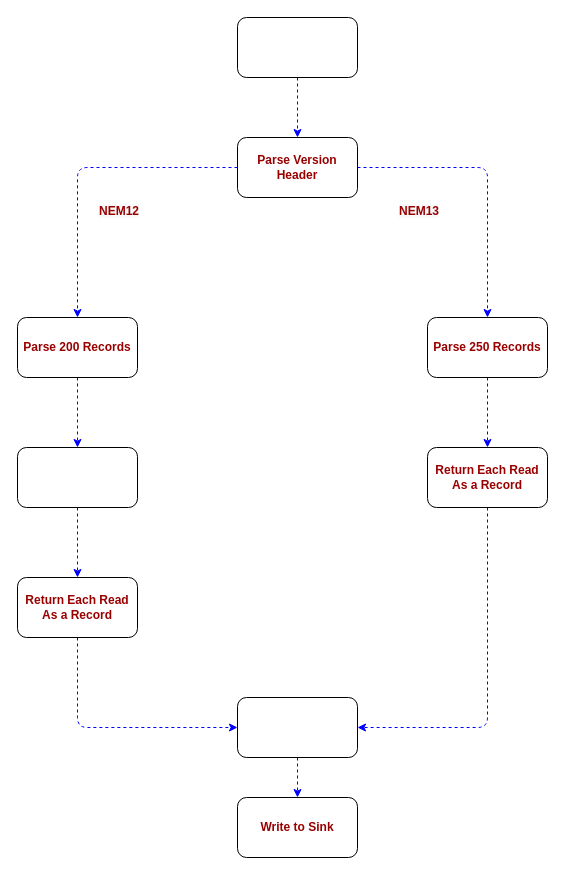
Some shapes in this 565 by 875 pixel diagram are drawn without their labels. The shapes that lost their labels are listed below. From the top down, each one's centre as x and y in pixels, then its label:
At point 297,47: "Read File".
At point 77,477: "Assign 300 and 400 Records".
At point 297,727: "Normalize Records to JSON".
